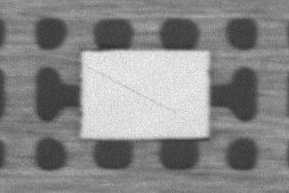DIE_CRACK: (132, 45, 264, 75)
